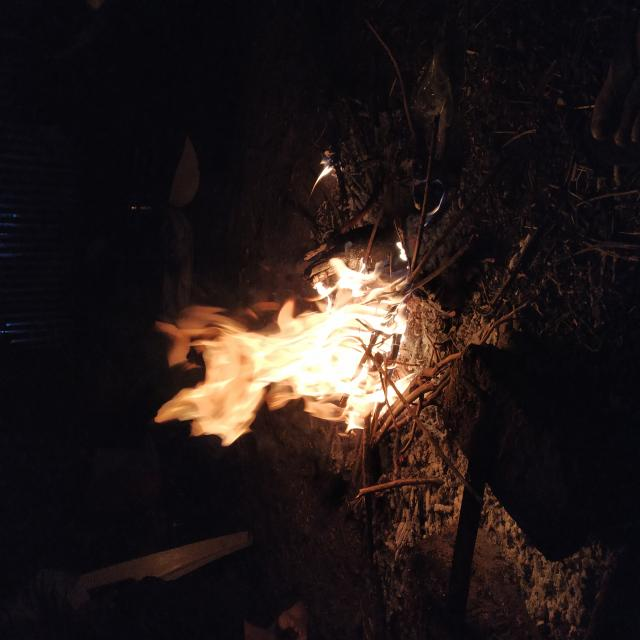Fire: (144, 207, 304, 547)
